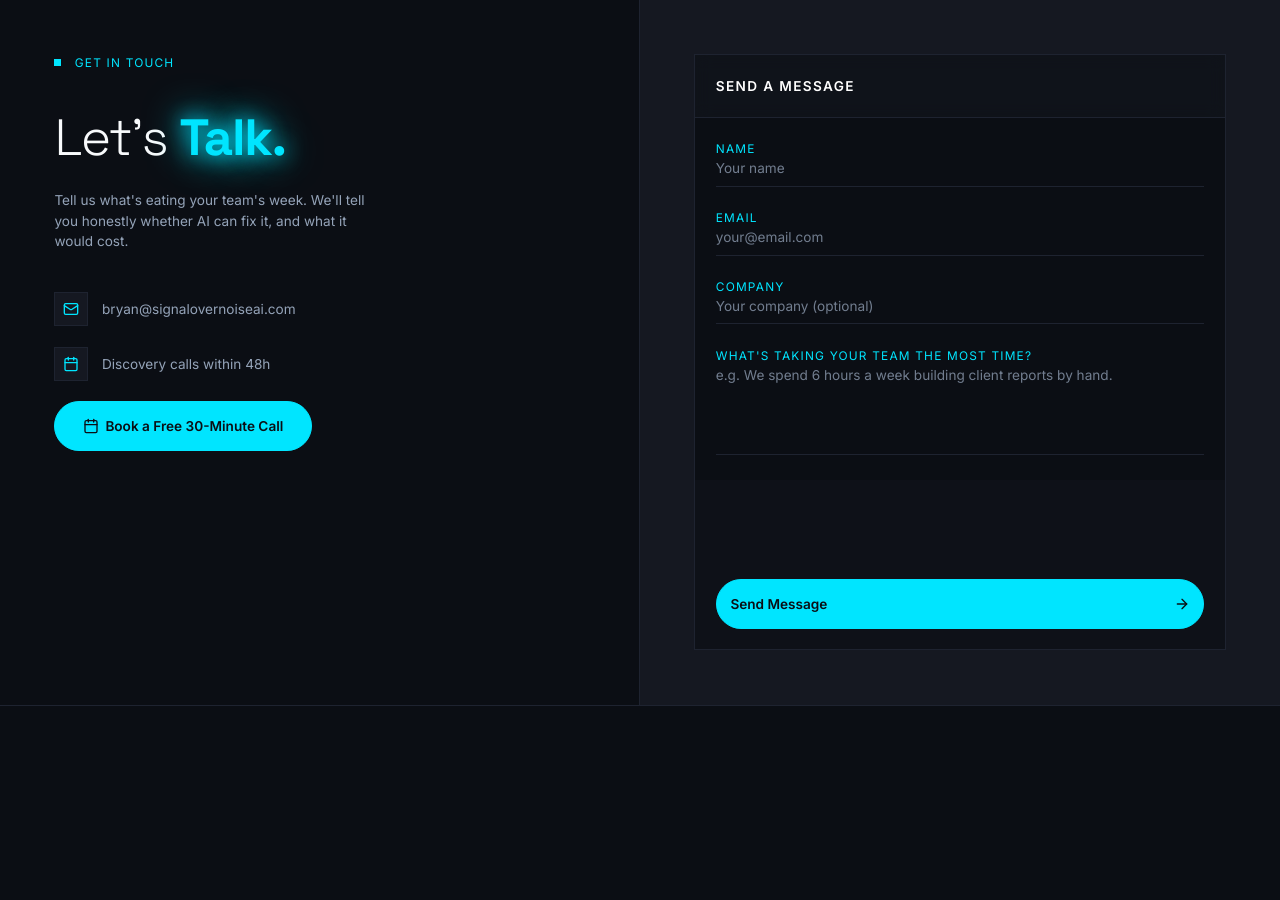
Test case: ContactSection when the send fails › clears the form and confirms when the send succeeds
The image size is (1280, 900).
Expected: the button "Send Message" is enabled, [716,579,1204,629]
Type "Ada" into the field labelled "Name" at (960, 172), box [716,158,1204,186]
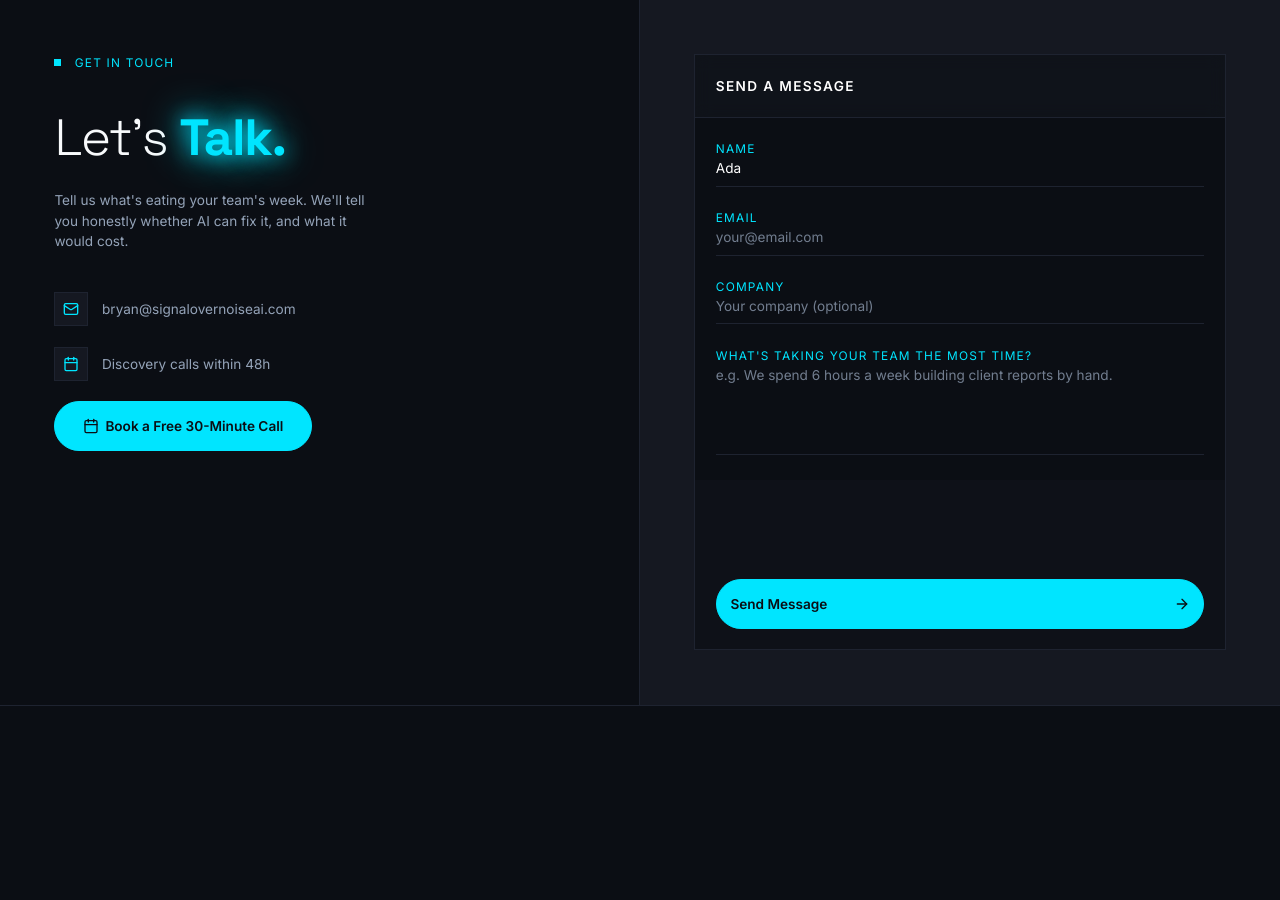
Type "ada@example.com" into the field labelled "Email" at (960, 241), box [716,227,1204,256]
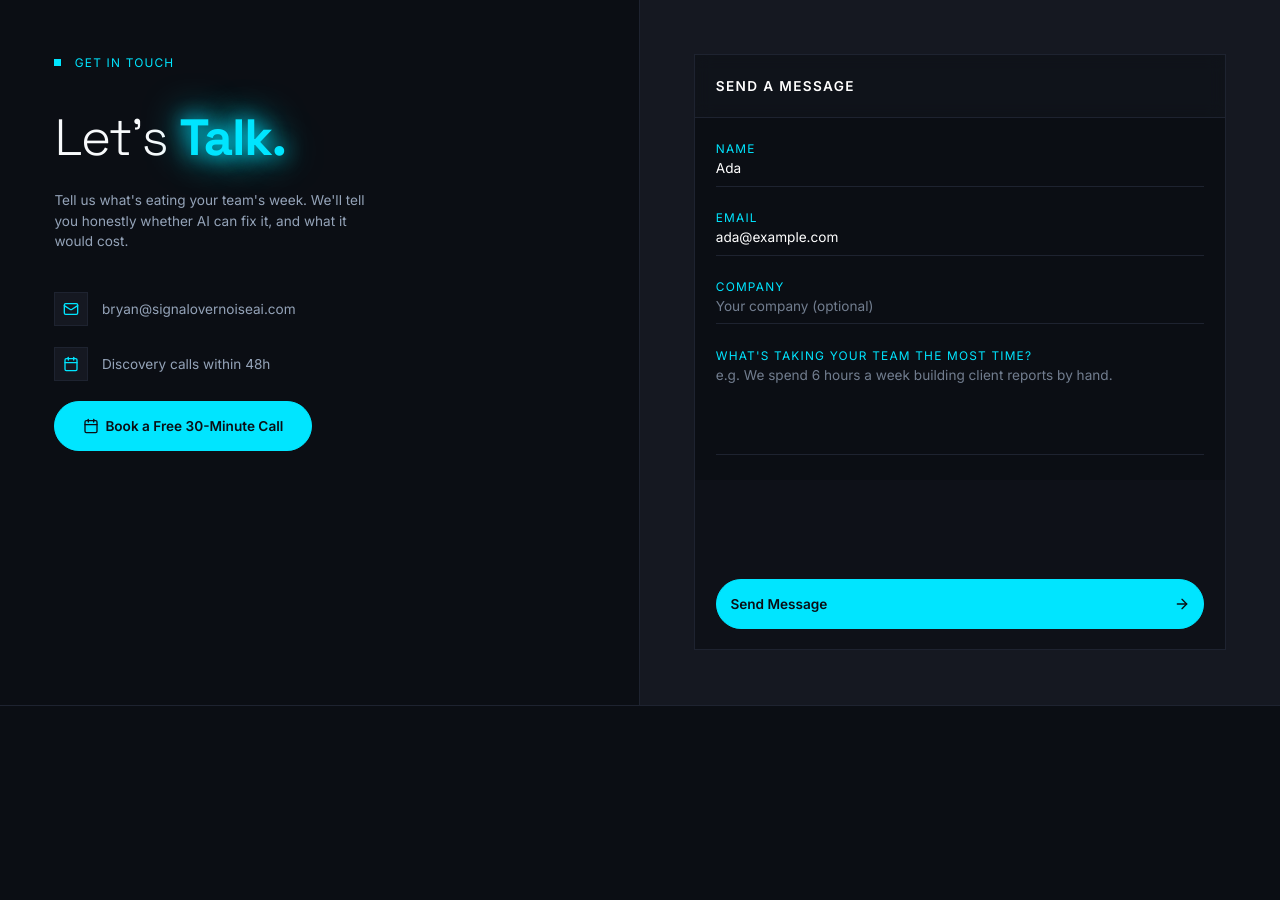
Replace the text in the text box labelled "What's taking your team the most time?" with "Hello" at (960, 410), box [716,365,1204,455]
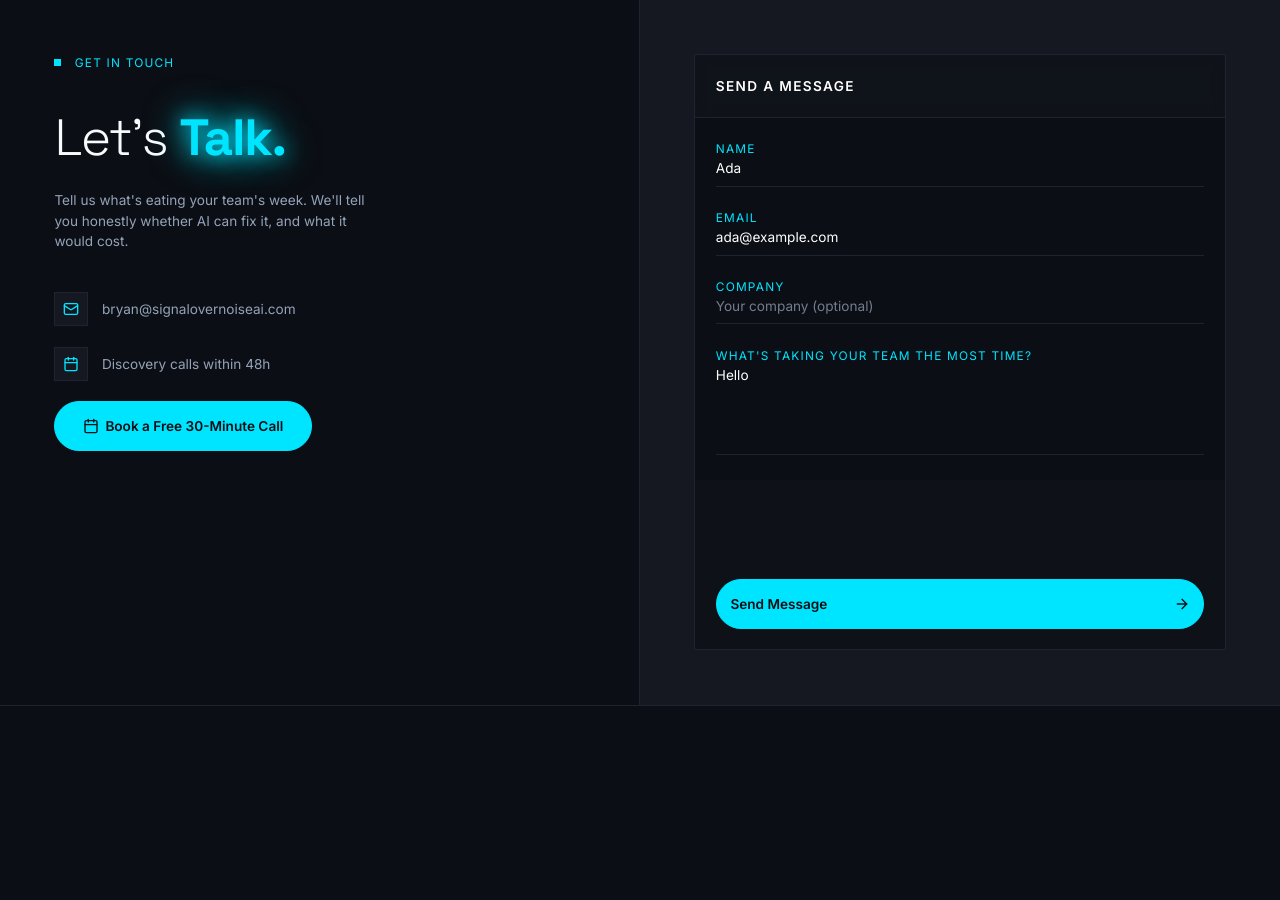
Submit the form named "send message", box [694,54,1226,650]
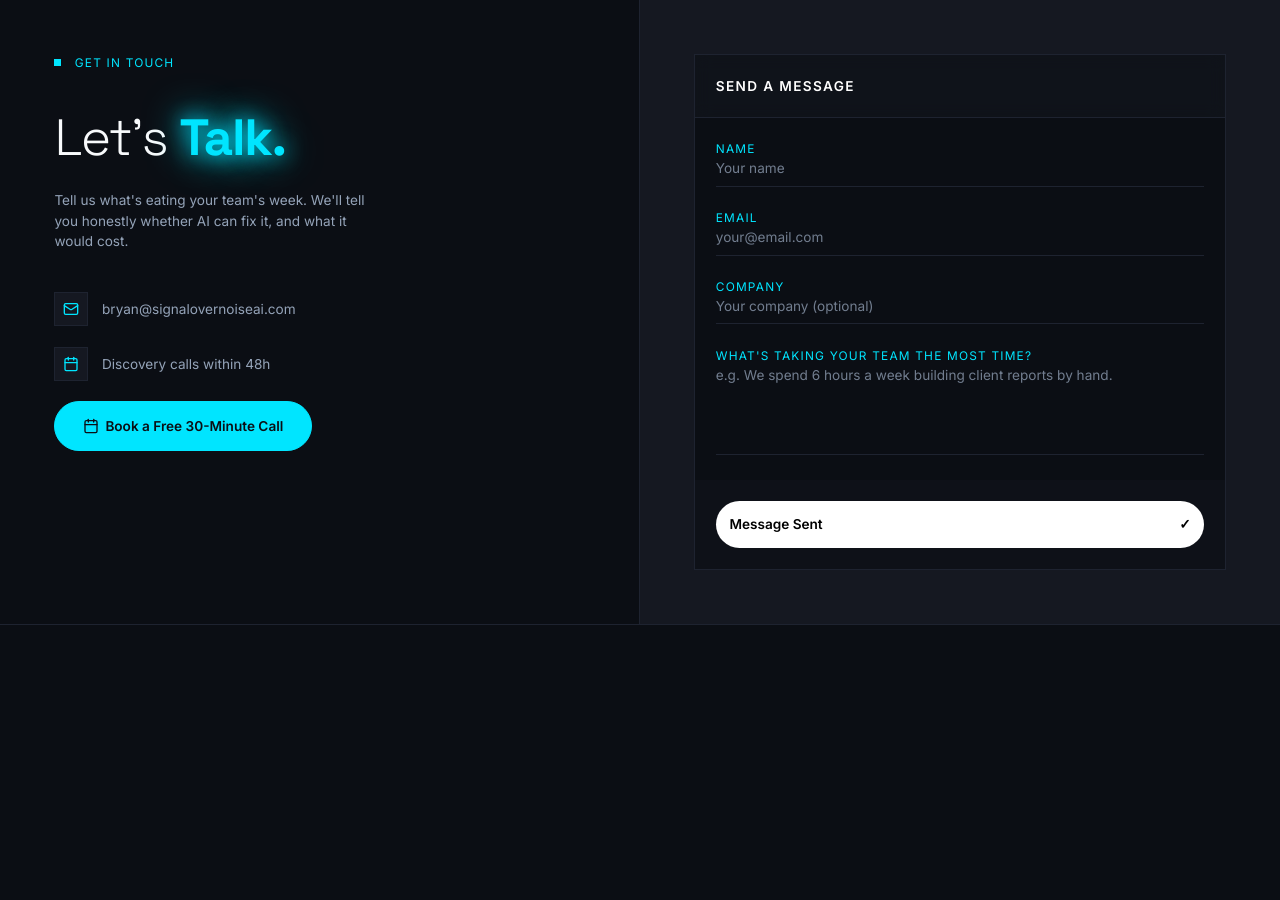
Now the text "Message Sent" is shown, box [729,516,823,532]
Now the text box labelled "What's taking your team the most time?" is empty, box [716,365,1204,455]
